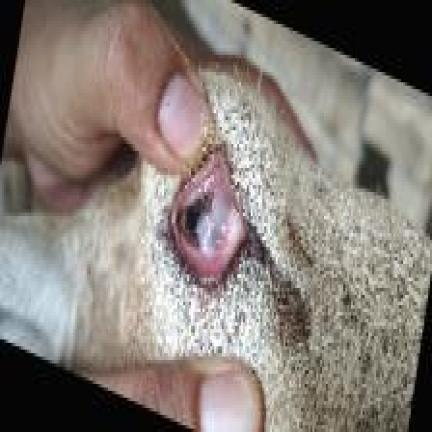goat-eye-anemia-22222222: (170, 178, 255, 291)
